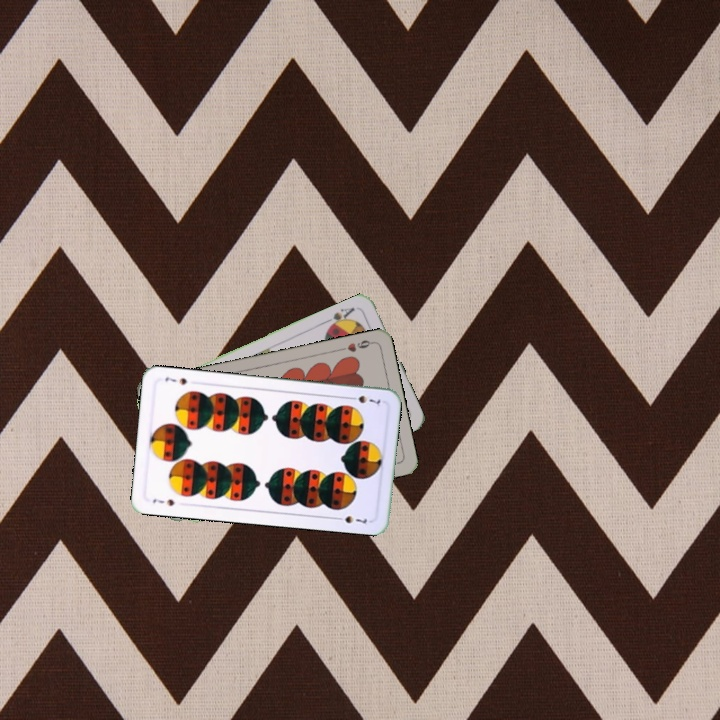H9: (336, 336, 376, 355)
S7: (344, 391, 383, 407), (149, 494, 177, 508)
SA: (322, 303, 357, 331)
